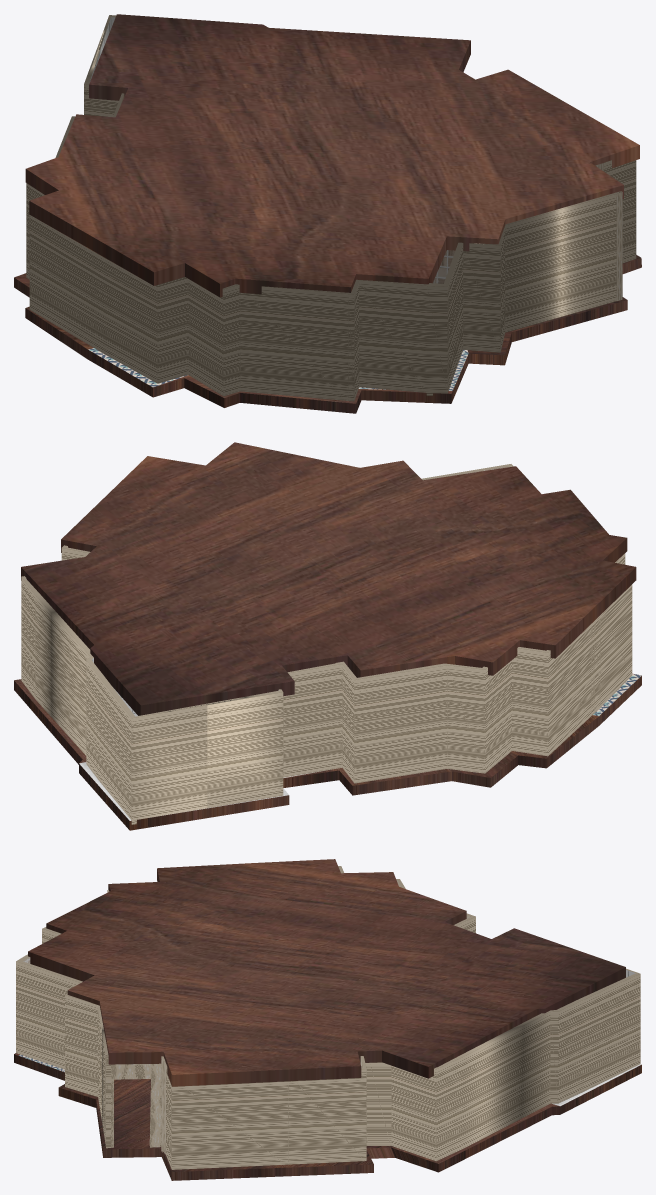
File: Escenario Taller.fbx
The picture shows the model from 3 angles, top to bottom: view 1: azimuth 30°, elevation 25°; view 2: azimuth 150°, elevation 25°; view 3: azimuth 270°, elevation 25°; orthographic projection. The views are drawn at different scales.
Parts seen in each view (by area): view 1: Techo, Cube, Suelo; view 2: Techo, Cube, Suelo; view 3: Techo, Cube, Suelo.
Boxes of the visible parts, x1,y1,x2,y2 form: Techo: (25,14,639,297); Cube: (26,15,636,401); Suelo: (14,255,641,413); Techo: (21,442,636,715); Cube: (21,464,632,824); Suelo: (14,673,641,830); Techo: (28,859,625,1086); Cube: (16,866,640,1169); Suelo: (14,1053,641,1180).
Size of the model in its own units: 3261 by 743 by 4002.
8 materials, 8 textured.
